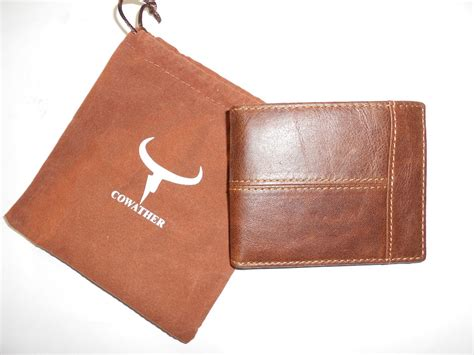cuero: (230, 104, 425, 262)
